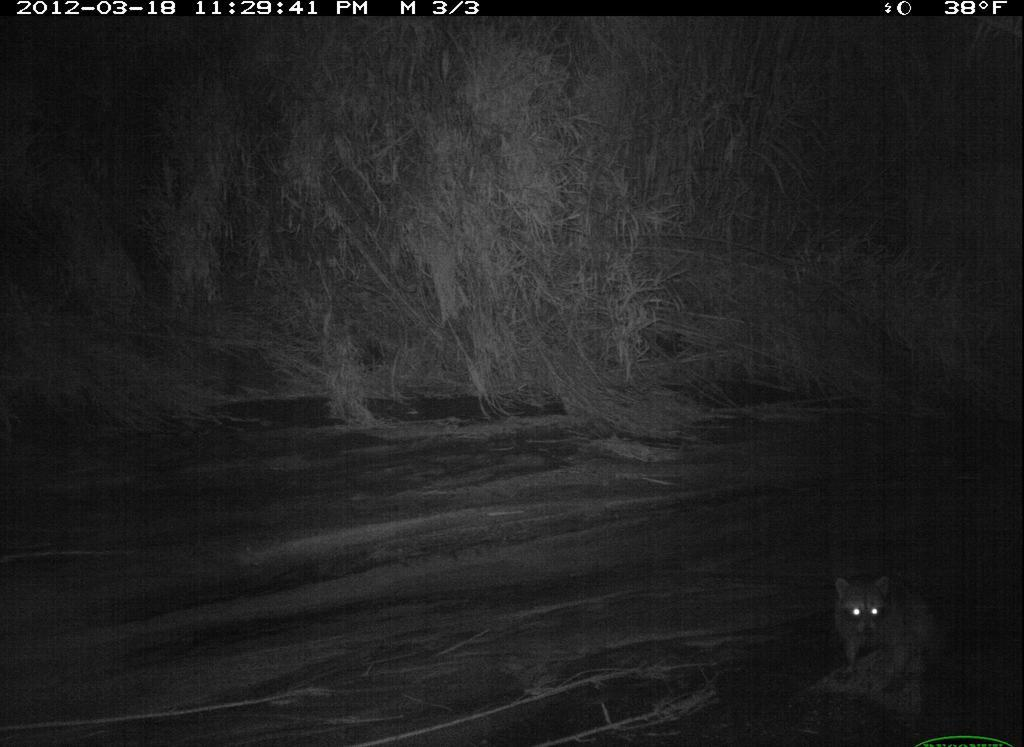raccoon: (820, 562, 973, 708)
